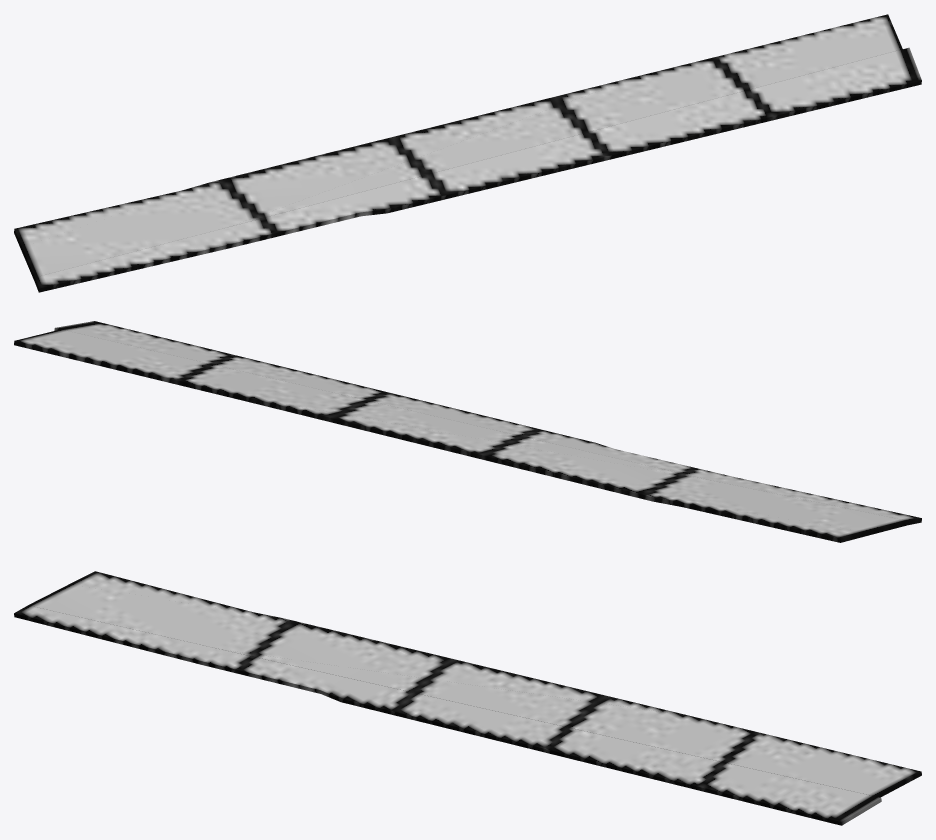
The model's file is leftOuterSpoiler.dae.
The picture shows the model from 3 angles, top to bottom: view 1: azimuth 30°, elevation 25°; view 2: azimuth 150°, elevation 25°; view 3: azimuth 330°, elevation 25°; orthographic projection. The views are drawn at different scales.
Parts seen in each view (by area): view 1: SketchUp; view 2: SketchUp; view 3: SketchUp.
Part boxes in pixels (x1,y1,x2,y2): SketchUp: (14,14,921,292); SketchUp: (14,321,921,542); SketchUp: (14,571,921,825).
Size of the model in its own units: 254 by 29.09 by 5.89.
Materials: 2 (1 with a texture image).
